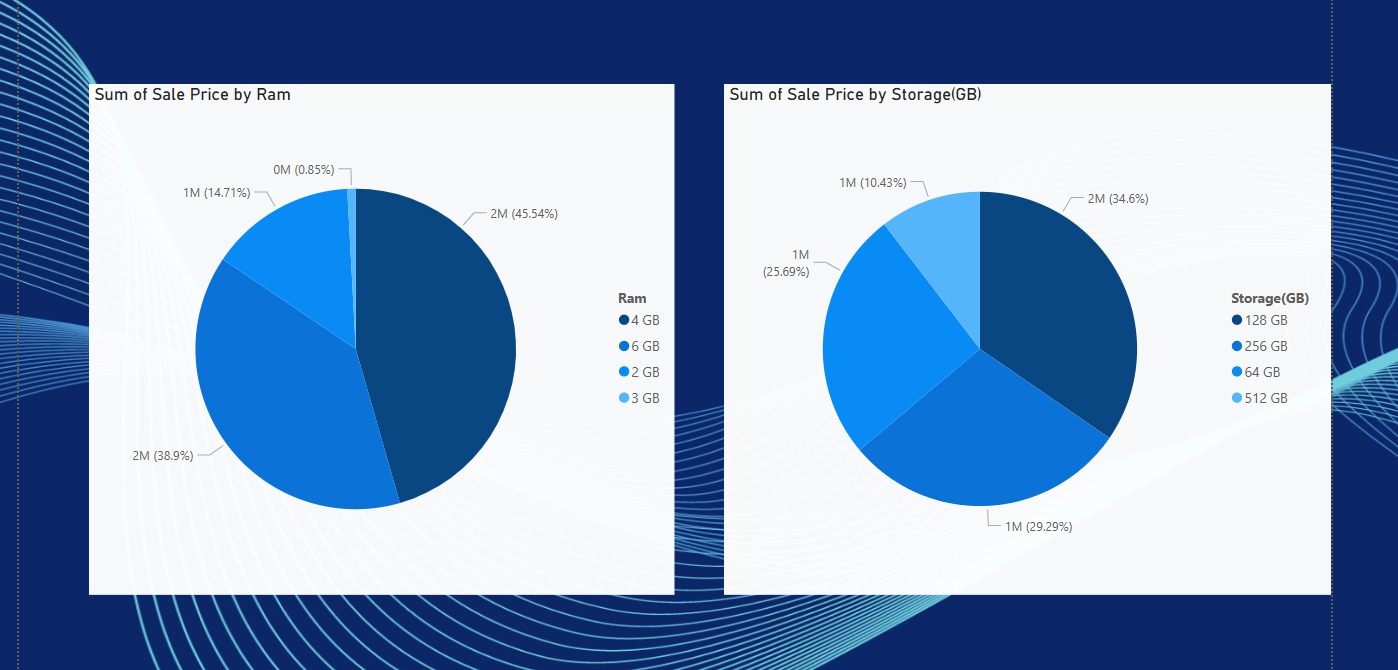

Layout of this report page (visuals, bound fields, positions):
{"tool":"powerbi","page":{"name":"Page 2","canvas":[1280,720],"ordinal":1},"visuals":[{"type":"pieChart","fields":{"Category":["apple_products_data.Ram"],"Y":["Sum(apple_products_data.Sale Price)"]},"box":[68.6,112.5,570.8,498.1],"z":0},{"type":"pieChart","fields":{"Category":["apple_products_data.Storage(GB)"],"Y":["Sum(apple_products_data.Sale Price)"]},"box":[687.5,112.5,592.8,498.1],"z":1000}]}

Visuals, with their boxes on the page's 1280x720 design canvas (x1, y1, x2, y2). These are canvas units, not pixel positions in the 1398x670 screenshot, which may show the page scaled, cropped or inside an application window:
pieChart - apple_products_data.Ram x Sum(apple_products_data.Sale Price): 69, 112, 639, 611
pieChart - apple_products_data.Storage(GB) x Sum(apple_products_data.Sale Price): 688, 112, 1280, 611
